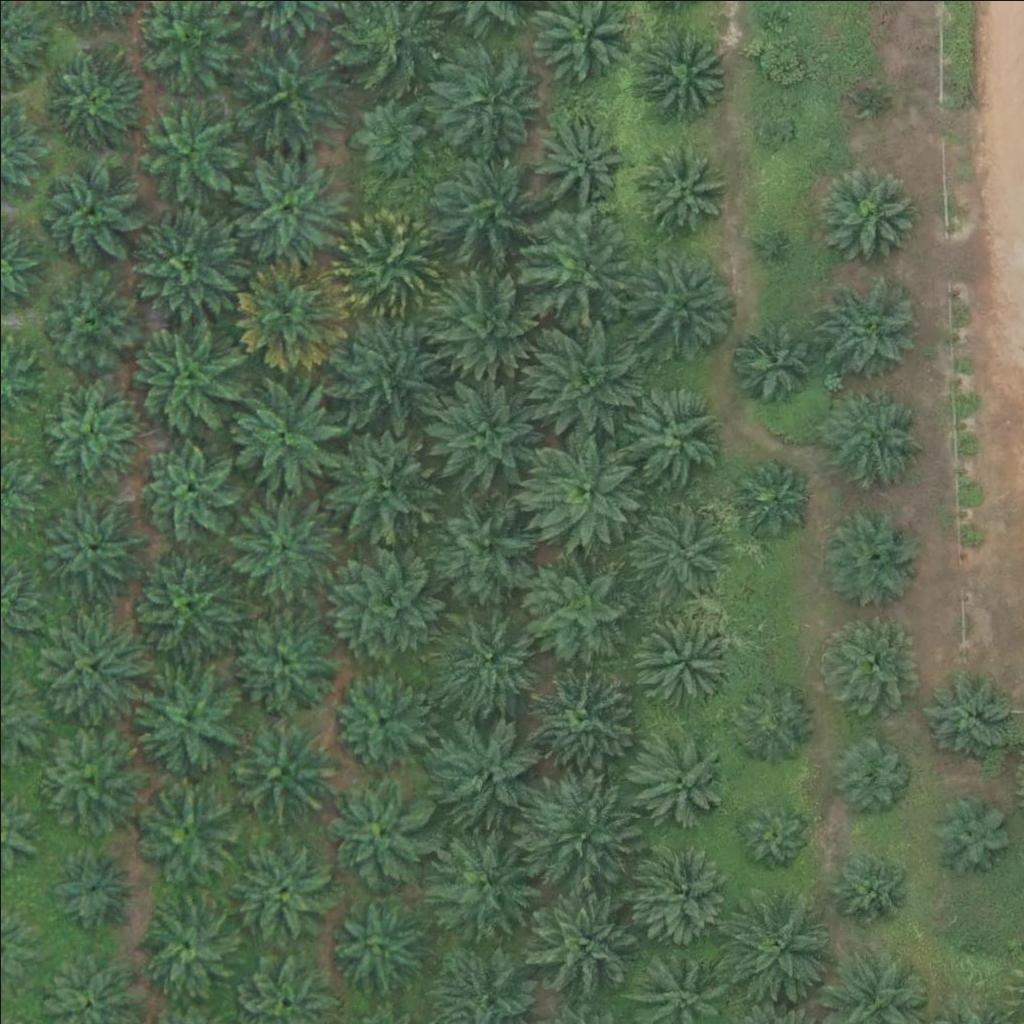Kelapa_Sawit: (720, 897, 833, 1011), (625, 246, 738, 360), (521, 776, 634, 889), (520, 659, 633, 772), (424, 828, 537, 941), (427, 714, 540, 827), (433, 603, 546, 716), (425, 488, 538, 601), (325, 548, 438, 661), (322, 434, 435, 547), (323, 316, 436, 429), (132, 661, 245, 774), (34, 609, 147, 722), (31, 489, 144, 602), (130, 88, 243, 201), (234, 255, 347, 368), (332, 206, 445, 319), (232, 154, 345, 267), (235, 36, 348, 149), (524, 882, 636, 996), (526, 318, 638, 432), (432, 148, 544, 262), (428, 45, 540, 159), (523, 212, 635, 326), (526, 550, 638, 663), (527, 429, 639, 542), (424, 377, 536, 490), (321, 774, 433, 887), (226, 835, 338, 948), (219, 708, 331, 821), (226, 602, 338, 715), (226, 483, 338, 596), (229, 377, 341, 490), (126, 543, 238, 656), (125, 319, 237, 432), (132, 206, 244, 319), (435, 262, 547, 375), (136, 889, 236, 990), (329, 895, 429, 996), (825, 387, 925, 488), (633, 838, 733, 939), (627, 726, 727, 827), (632, 608, 732, 709), (327, 669, 427, 770), (137, 435, 237, 536), (38, 269, 138, 370), (40, 160, 140, 261), (42, 44, 142, 145), (817, 276, 917, 377), (819, 168, 919, 269), (815, 614, 915, 714), (820, 507, 920, 607), (622, 495, 722, 595), (620, 382, 720, 482), (135, 786, 235, 886), (37, 726, 137, 826), (918, 674, 1006, 762), (925, 789, 1012, 877), (826, 839, 913, 927), (829, 730, 916, 818), (727, 675, 814, 763), (45, 384, 132, 472), (535, 115, 622, 203), (635, 148, 722, 236), (642, 26, 729, 114), (729, 319, 816, 407), (734, 459, 809, 535), (52, 848, 127, 924), (352, 99, 427, 175), (736, 796, 811, 871), (947, 926, 997, 976), (753, 106, 791, 144), (753, 234, 778, 259), (757, 4, 782, 29), (857, 84, 882, 109)
